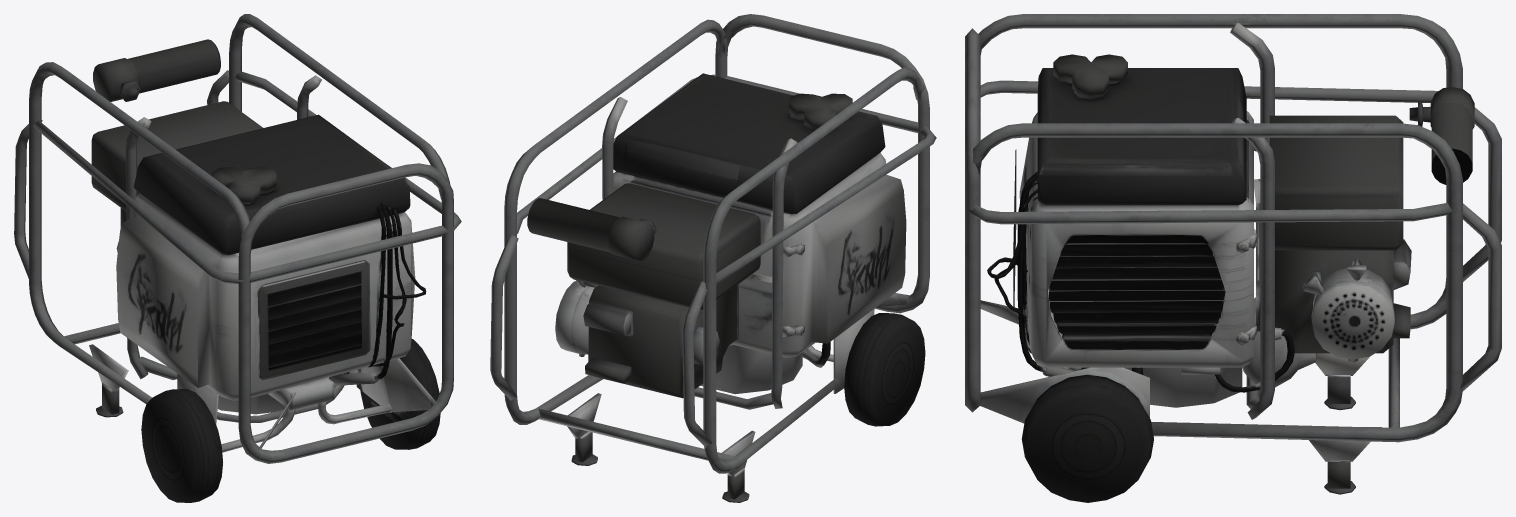
Rendered from generator.glb.
3 renders of one model, left to right at view 1: azimuth 30°, elevation 25°; view 2: azimuth 150°, elevation 25°; view 3: azimuth 270°, elevation 25°, orthographic. The views are drawn at different scales.
Visible parts, largest first — view 1: tripo_node_48063a67-137f-4c01-90b3-3b64e926e9f0; view 2: tripo_node_48063a67-137f-4c01-90b3-3b64e926e9f0; view 3: tripo_node_48063a67-137f-4c01-90b3-3b64e926e9f0.
Boxes of the visible parts, x1,y1,x2,y2 form: tripo_node_48063a67-137f-4c01-90b3-3b64e926e9f0: (14, 14, 461, 502); tripo_node_48063a67-137f-4c01-90b3-3b64e926e9f0: (490, 14, 936, 502); tripo_node_48063a67-137f-4c01-90b3-3b64e926e9f0: (965, 14, 1501, 502).
Size of the model in its own units: 0.5913 by 0.75 by 0.9654.
Materials: 1 (1 with a texture image).
